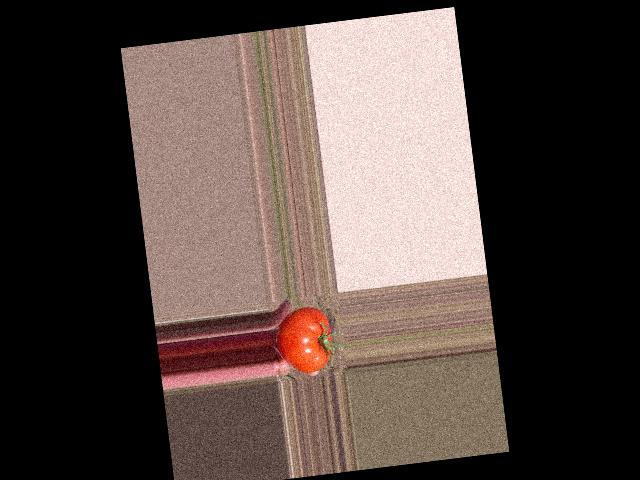tomato: (272, 304, 336, 376)
